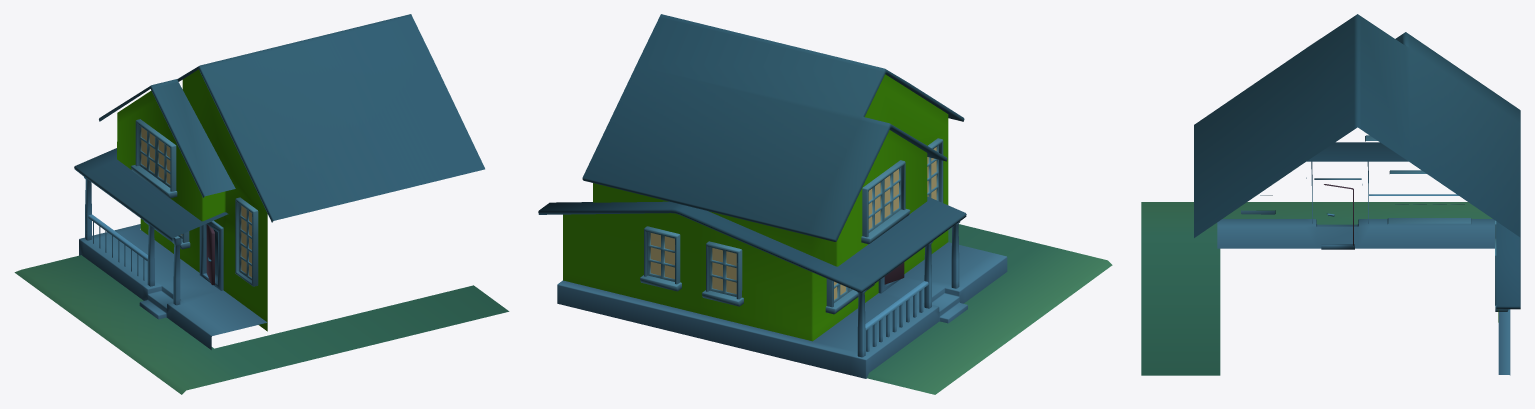
The model's file is House03Night.glb.
3 views of the same model, side by side, from view 1: azimuth 30°, elevation 25°; view 2: azimuth 150°, elevation 25°; view 3: azimuth 270°, elevation 25° (orthographic). The views are drawn at different scales.
Parts seen in each view (by area): view 1: House03Night; view 2: House03Night; view 3: House03Night.
Boxes of the visible parts, left/top/right/bottom form: House03Night: left=14, top=14, right=509, bottom=394; House03Night: left=538, top=14, right=1112, bottom=394; House03Night: left=1141, top=14, right=1520, bottom=375.
Size of the model in its own units: 22.15 by 13.13 by 17.9.
Materials: 2 (1 with a texture image).
